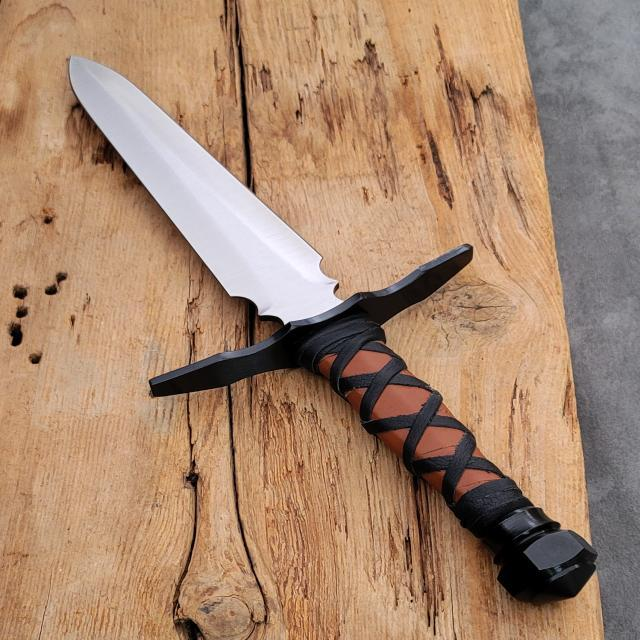short sword: (48, 39, 604, 610)
